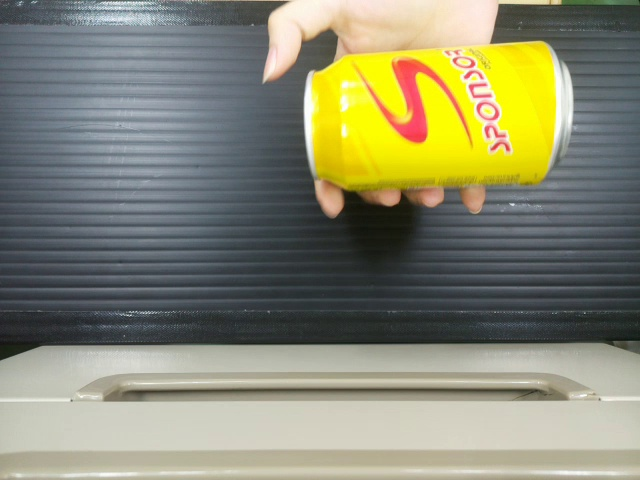can: (300, 50, 572, 181)
